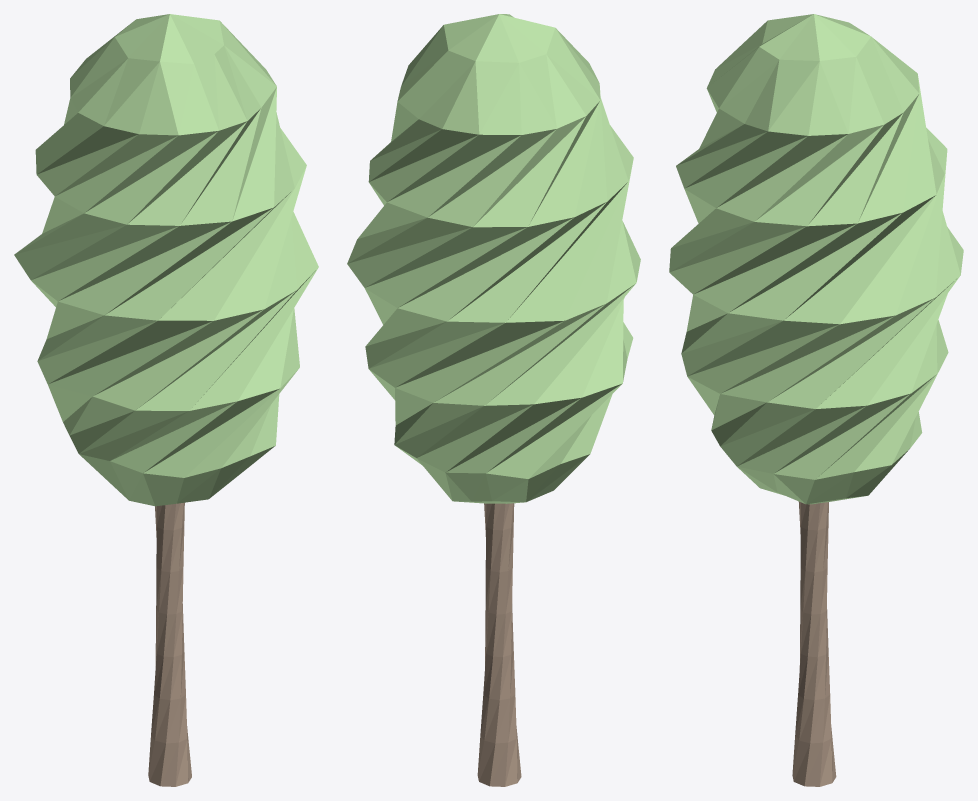
Rendered from low poly tree.gltf.
3 views of the same model, side by side, from view 1: azimuth 30°, elevation 25°; view 2: azimuth 150°, elevation 25°; view 3: azimuth 270°, elevation 25° (orthographic).
Visible parts, largest first — view 1: leaves, trunk; view 2: leaves, trunk; view 3: leaves, trunk.
Boxes of the visible parts, left/top/right/bottom form: leaves: left=14, top=14, right=318, bottom=506; trunk: left=148, top=502, right=191, bottom=786; leaves: left=347, top=14, right=640, bottom=503; trunk: left=477, top=503, right=521, bottom=786; leaves: left=669, top=14, right=963, bottom=504; trunk: left=792, top=501, right=836, bottom=786.
Size of the model in its own units: 140 by 402 by 140.
